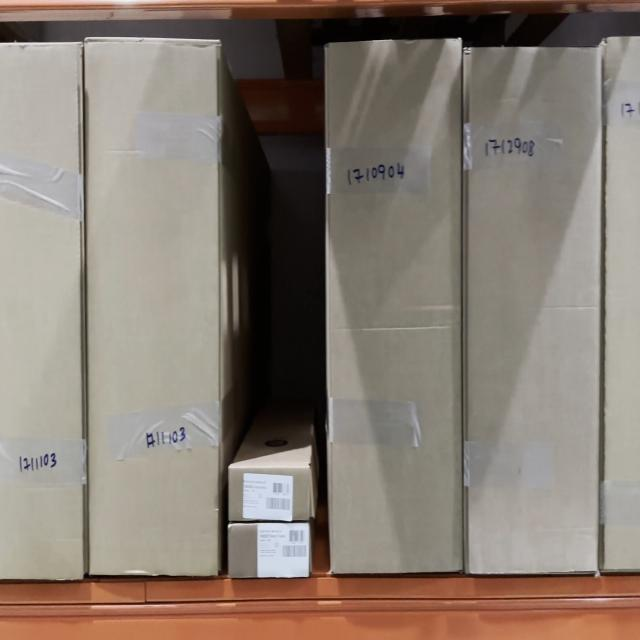box: (465, 44, 605, 567), (326, 42, 462, 574), (88, 44, 218, 574), (230, 527, 312, 578), (230, 468, 310, 516)
